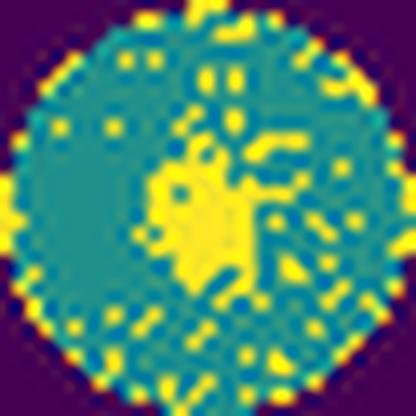Center: (131, 133, 312, 314)
